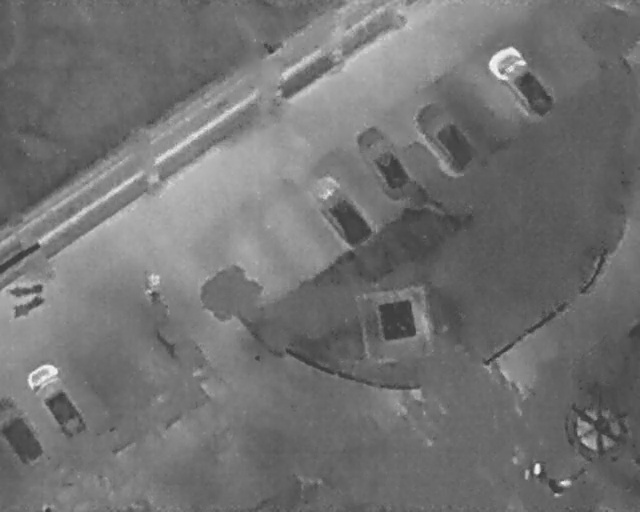Bicycle: (7, 291, 48, 322), (4, 280, 45, 301)
Car: (299, 167, 380, 256), (19, 355, 95, 449), (406, 94, 487, 182), (481, 40, 562, 128), (348, 118, 421, 209), (0, 394, 46, 468)
Person: (143, 289, 162, 302), (146, 273, 162, 287)
